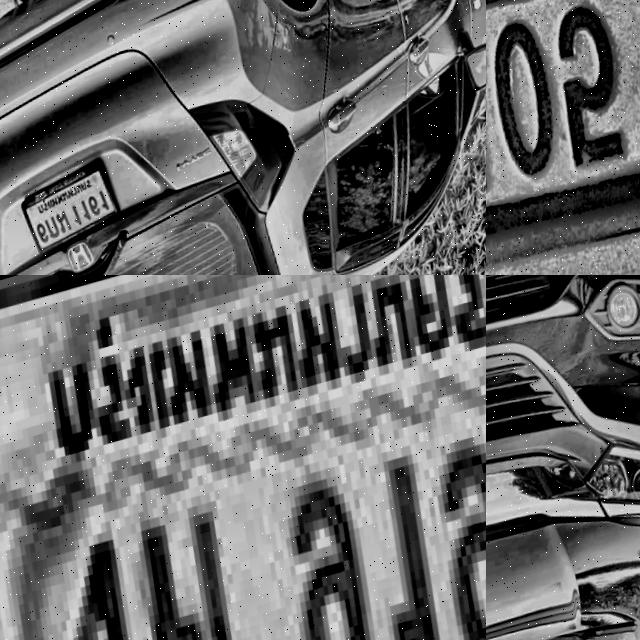license-plate: (0, 275, 486, 640), (486, 0, 640, 275), (17, 154, 137, 264)
